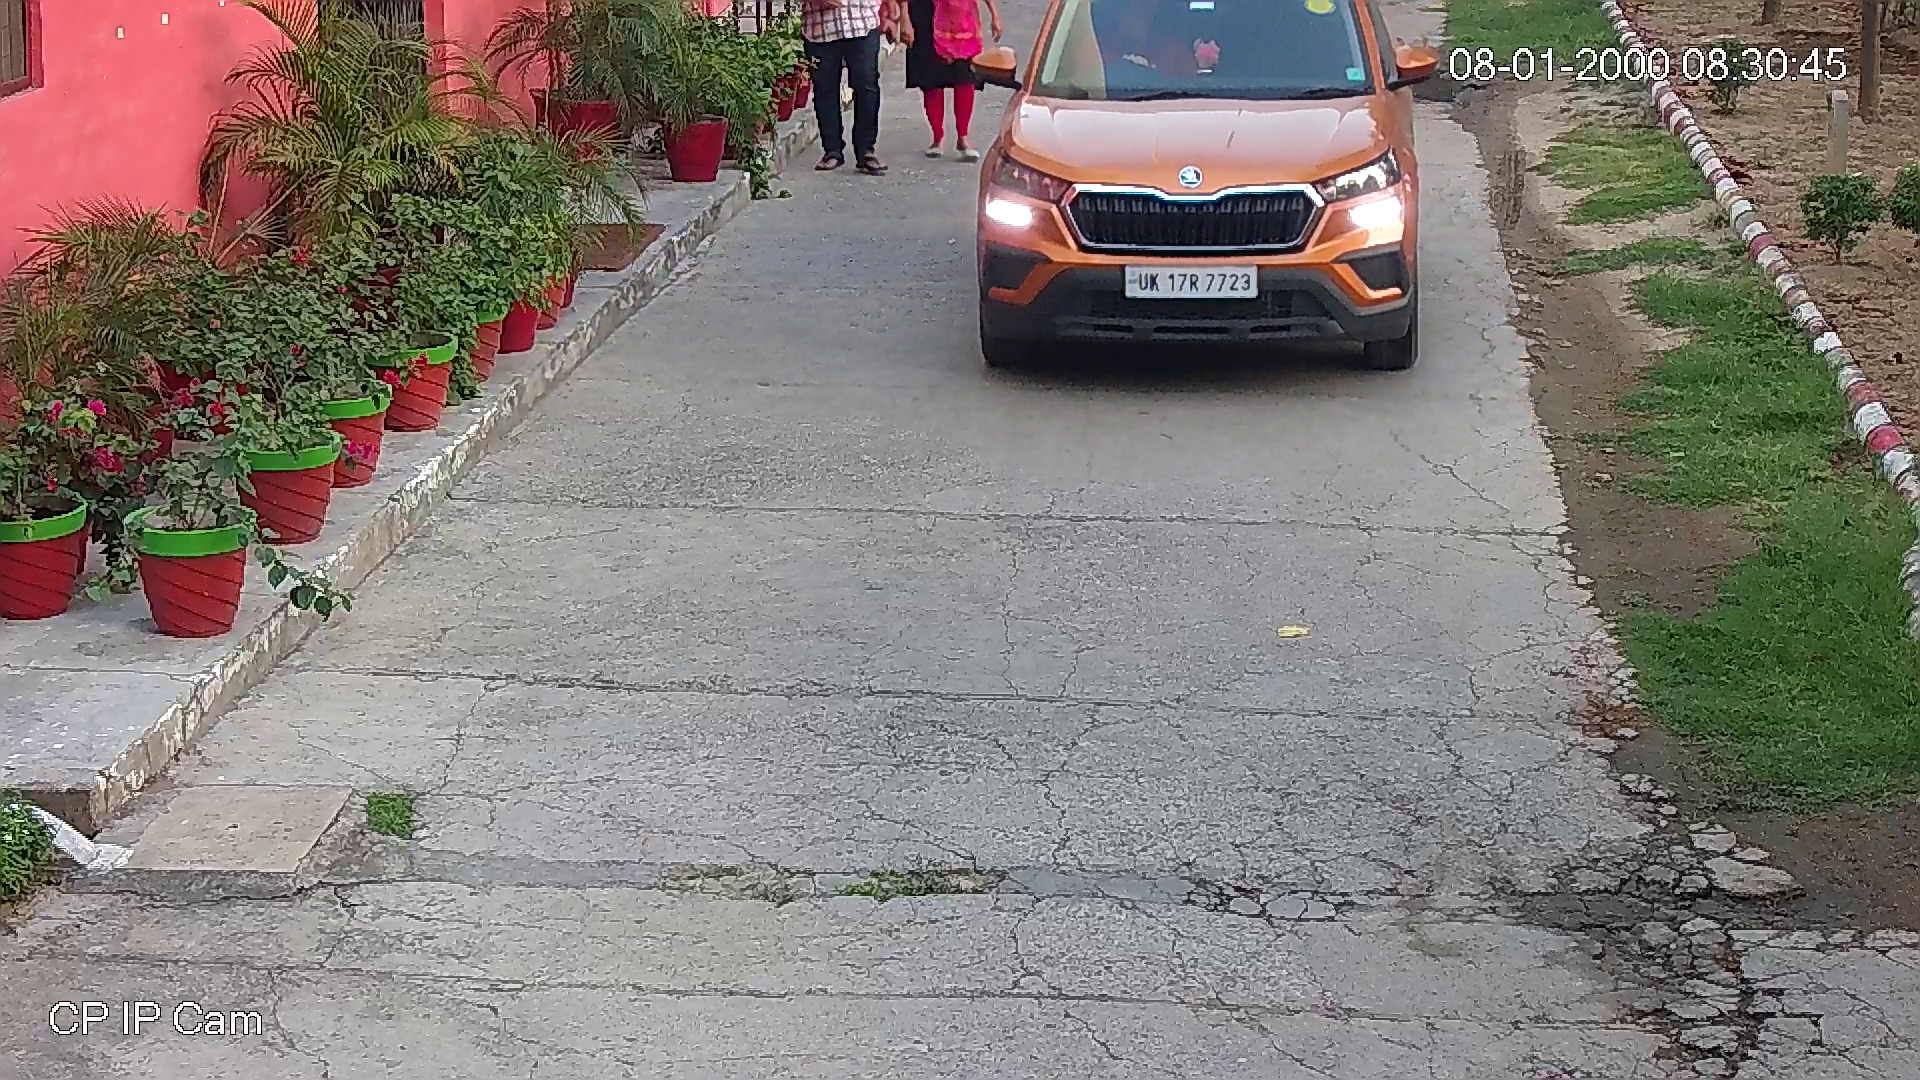plate: (1117, 257, 1262, 303)
